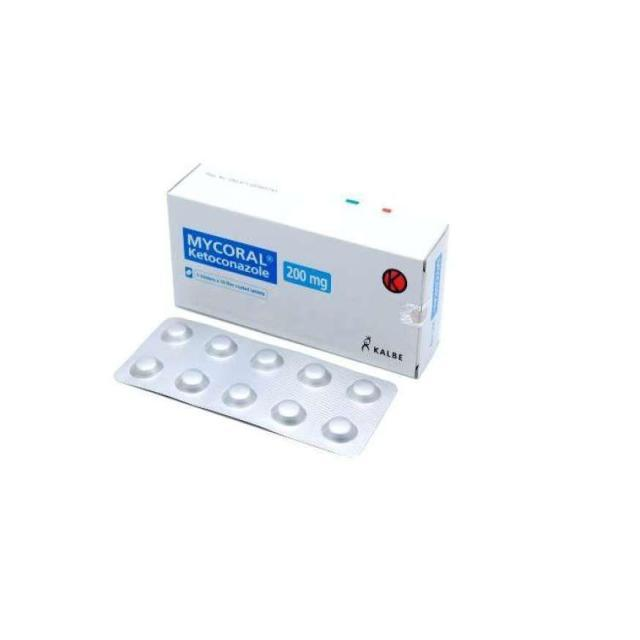drug-name: (188, 233, 272, 268)
